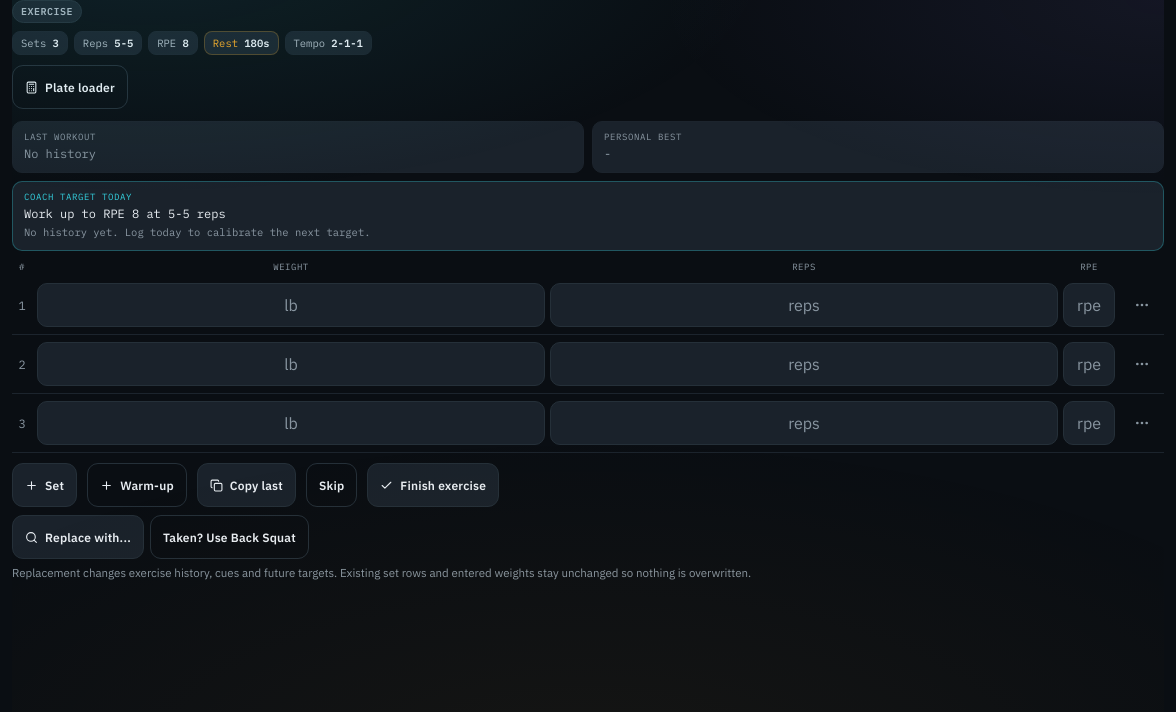
Test: finish exercise marks blank sets missed, and logging a missed set clears it
Type "225" into the field named "Set 1 weight" at (291, 305), box [37,283,545,327]
Type "5" into the field named "Set 1 reps" at (804, 305), box [550,283,1058,327]
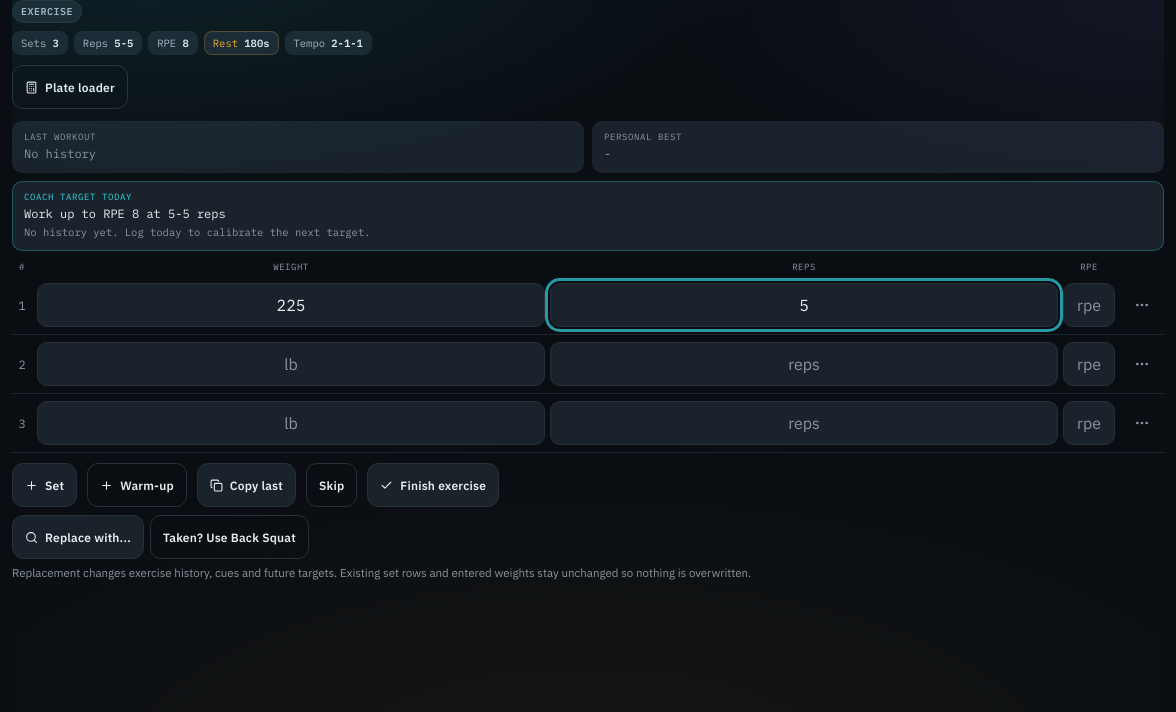
Click the button "Finish exercise" at (433, 485), box [367,463,499,507]
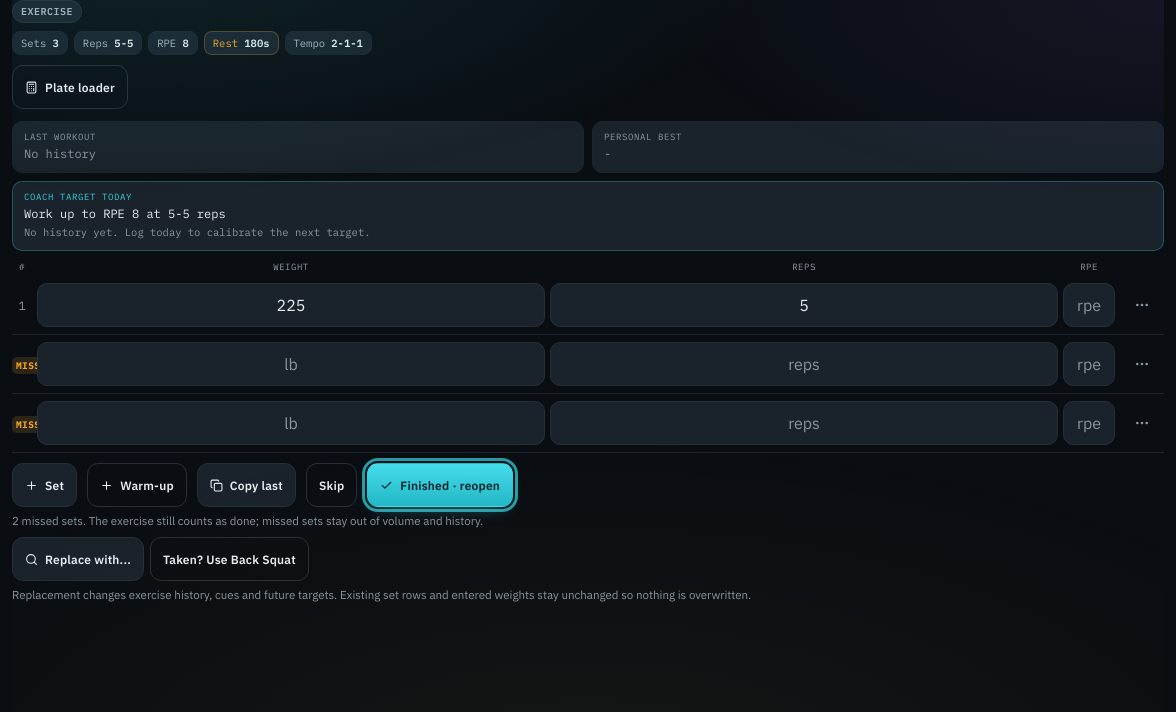
Check: the text "MISS" is shown 2 times, box [12,356,44,374]; [12,416,44,432]
Check: the text "2 missed sets" is shown, box [12,513,483,528]
Type "4" into the field named "Set 3 reps" at (804, 423), box [550,401,1058,445]
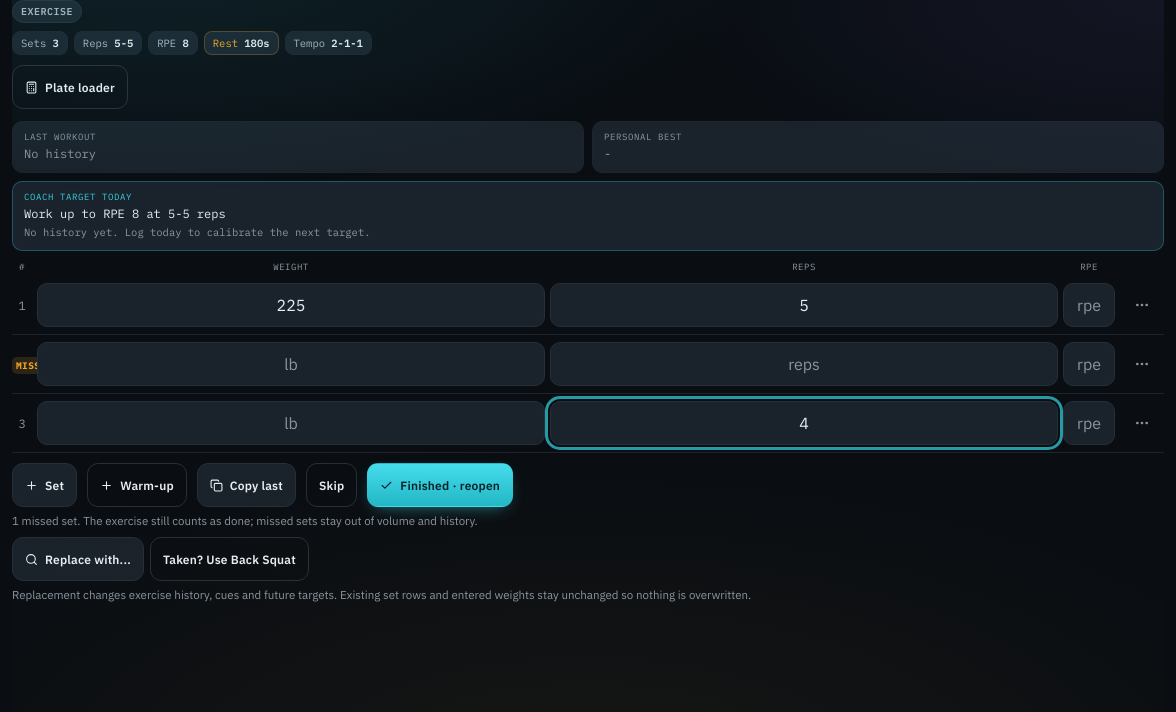
Check: the text "MISS" is shown once, box [12,356,44,374]
Click the button "Finished · reopen" at (440, 485), box [367,463,513,507]
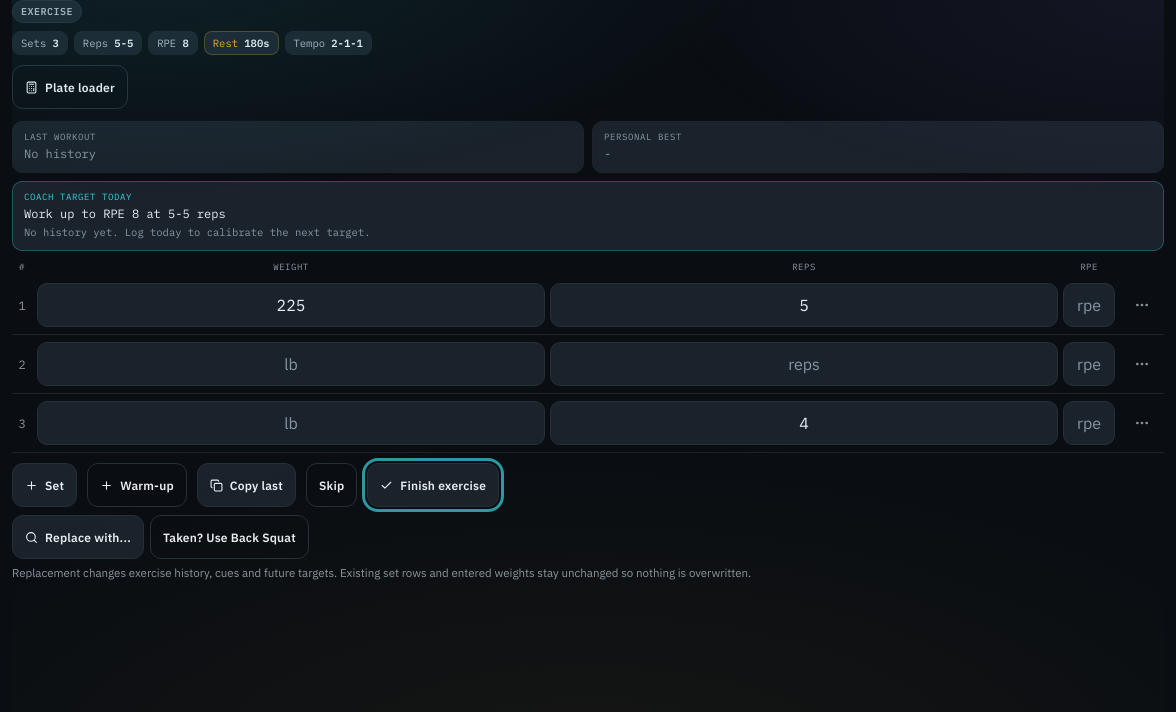
Check: the text "MISS" is not shown
Click the button named "Set 2 details" at (1142, 364), box [1120,342,1164,386]
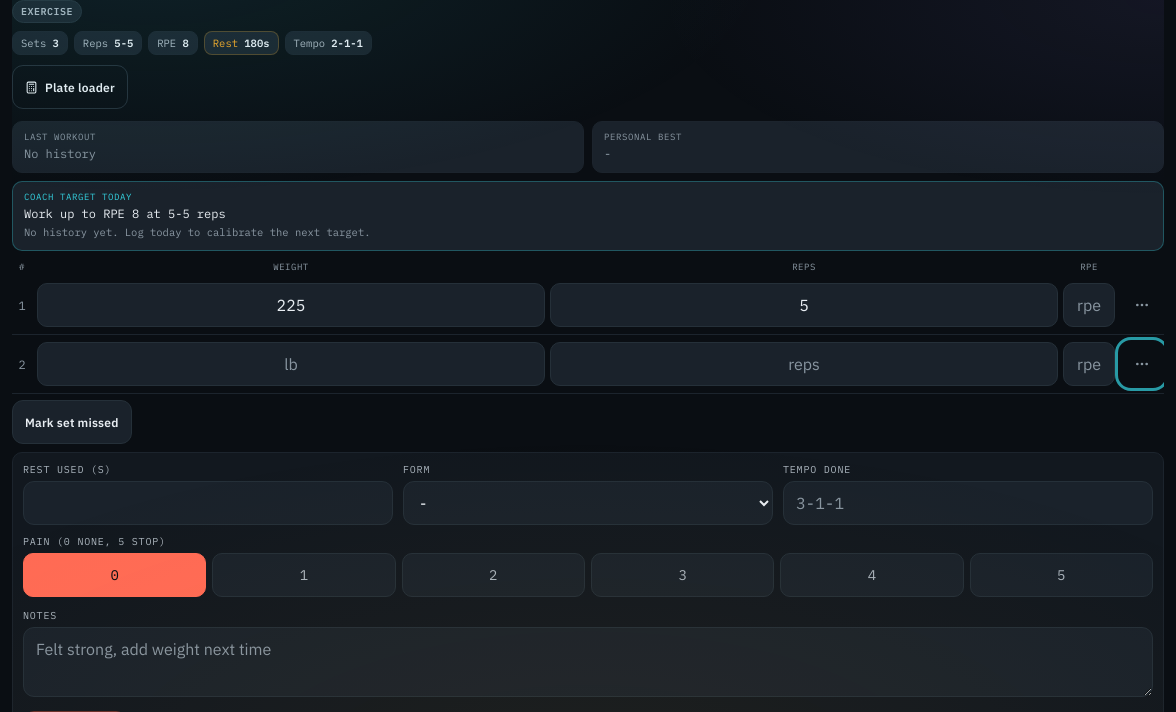
Click the button "Mark set missed" at (72, 422), box [12,400,132,444]
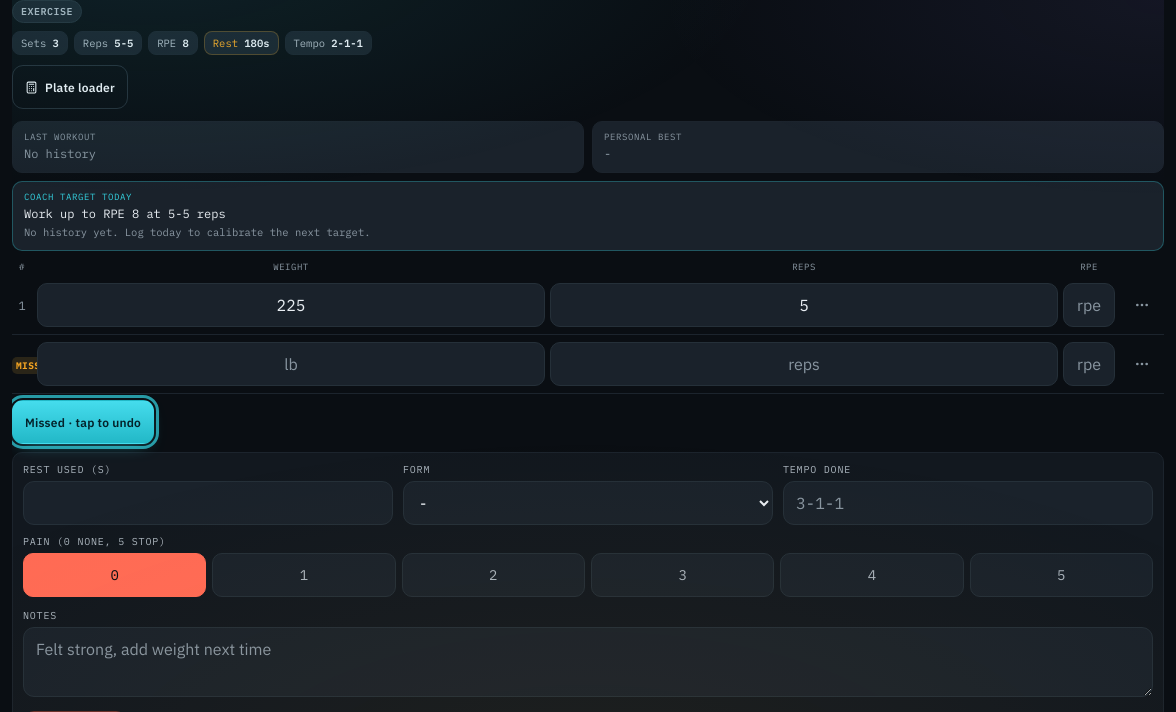
Check: the text "MISS" is shown once, box [12,356,44,374]
